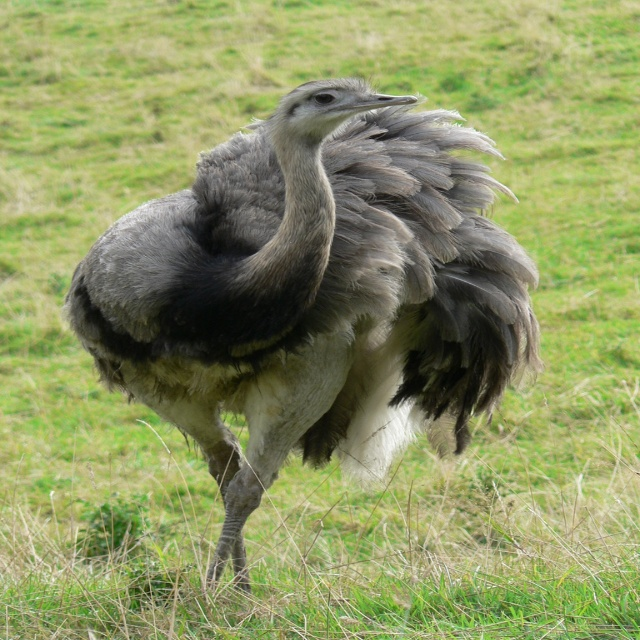Ostrich: (61, 70, 546, 595)
